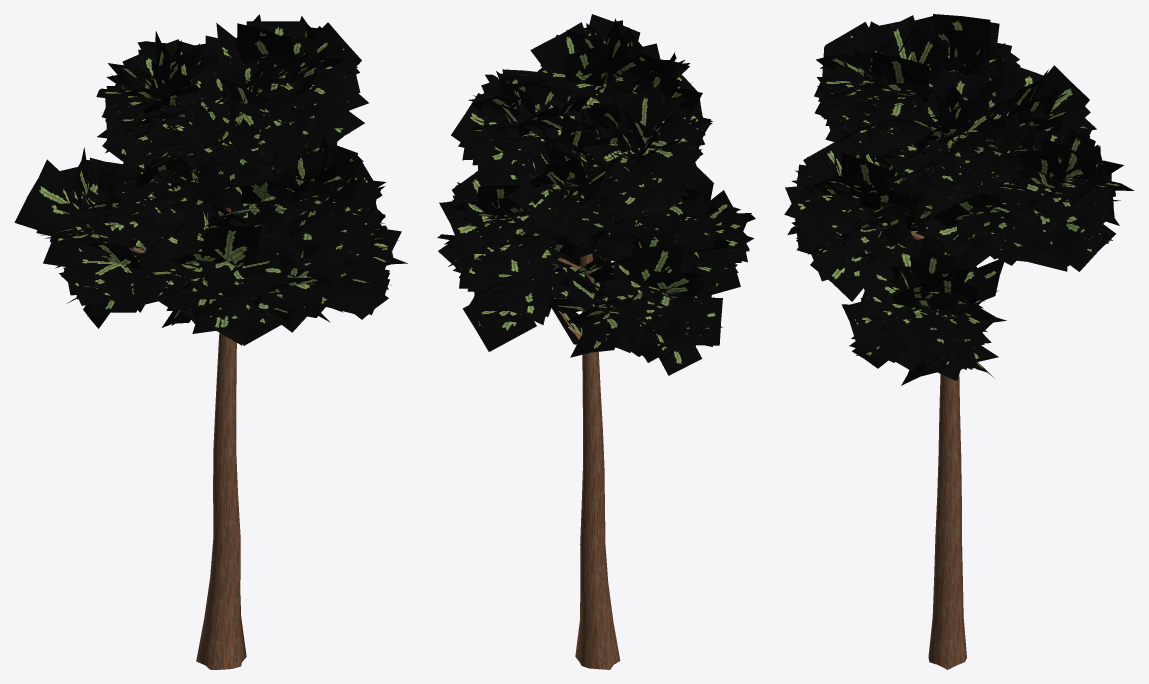
The model's file is borovice_stara.glb.
The picture shows the model from 3 angles, left to right: view 1: azimuth 30°, elevation 25°; view 2: azimuth 150°, elevation 25°; view 3: azimuth 270°, elevation 25°; orthographic projection. The views are drawn at different scales.
Parts seen in each view (by area): view 1: borovice_stara; view 2: borovice_stara; view 3: borovice_stara.
Boxes of the visible parts, x1,y1,x2,y2 form: borovice_stara: (14, 14, 407, 669); borovice_stara: (437, 14, 755, 669); borovice_stara: (784, 14, 1134, 669).
Bounding box in the file's own units: 9.99 × 20.05 × 9.93.
Materials: 2 (2 with a texture image).
